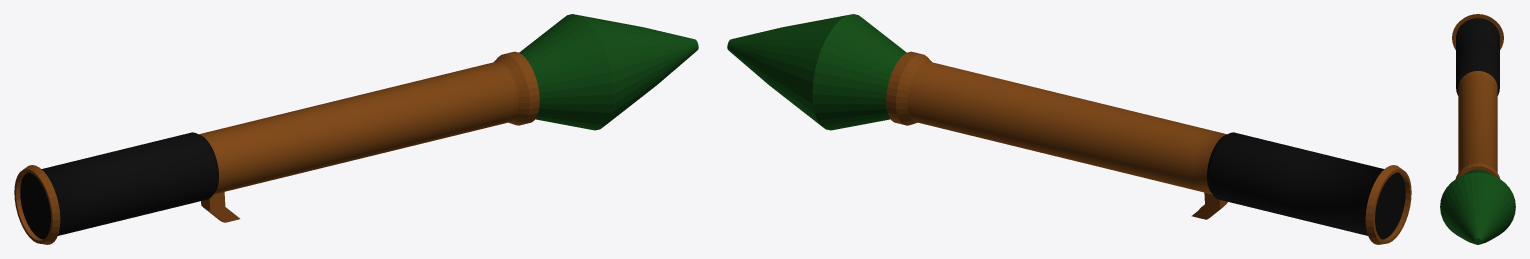
File: Rocket_Launcher_Model.fbx
3 views of the same model, side by side, from view 1: azimuth 30°, elevation 25°; view 2: azimuth 150°, elevation 25°; view 3: azimuth 270°, elevation 25° (orthographic). The views are drawn at different scales.
Parts seen in each view (by area): view 1: Cylinder; view 2: Cylinder; view 3: Cylinder.
Part boxes in pixels (bbox=[...]): Cylinder: bbox=[14, 14, 698, 244]; Cylinder: bbox=[727, 14, 1411, 244]; Cylinder: bbox=[1440, 14, 1515, 244].
Size of the model in its own units: 338 by 54.53 by 52.65.
